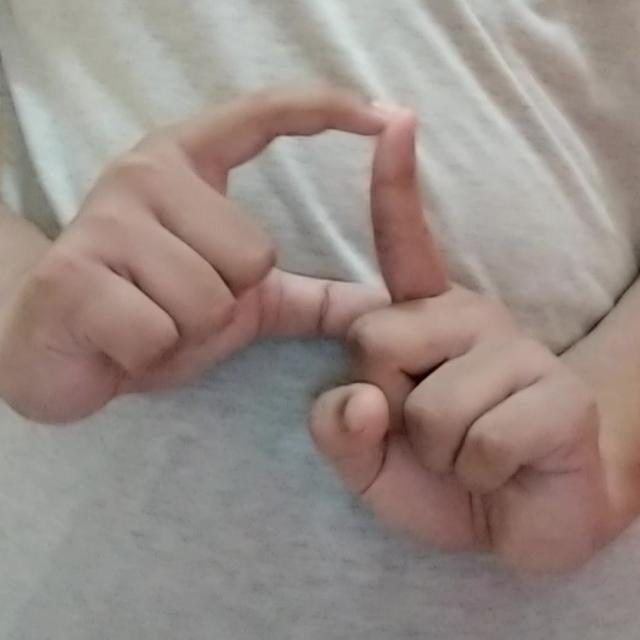D: (11, 71, 623, 594)
